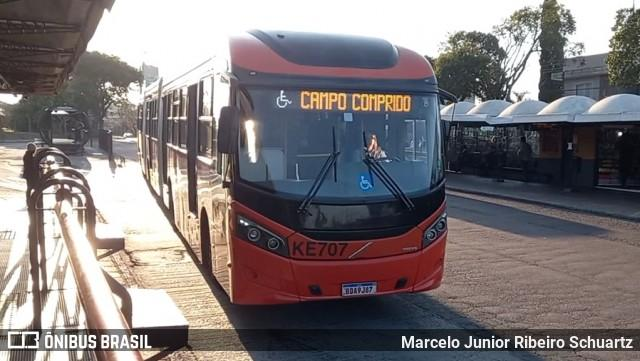CAMPO COMPRIDO: (298, 90, 415, 115)
